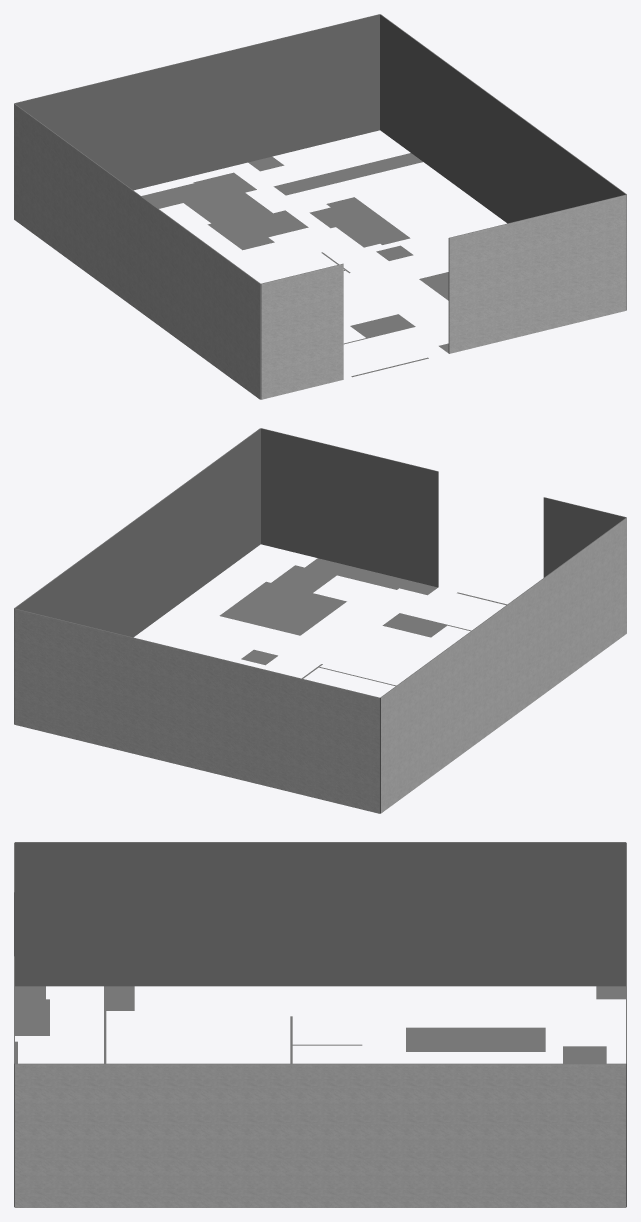
Rendered from LabPlan.gltf.
The picture shows the model from 3 angles, top to bottom: view 1: azimuth 30°, elevation 25°; view 2: azimuth 150°, elevation 25°; view 3: azimuth 270°, elevation 25°; orthographic projection. The views are drawn at different scales.
Parts seen in each view (by area): view 1: Plan; view 2: Plan; view 3: Plan.
Boxes of the visible parts, <box> form: Plan: <box>14,14,626,399</box>; Plan: <box>14,428,626,813</box>; Plan: <box>14,842,626,1207</box>.
Bounding box in the file's own units: 9.04 × 2.73 × 10.54.
2 materials, 1 textured.
